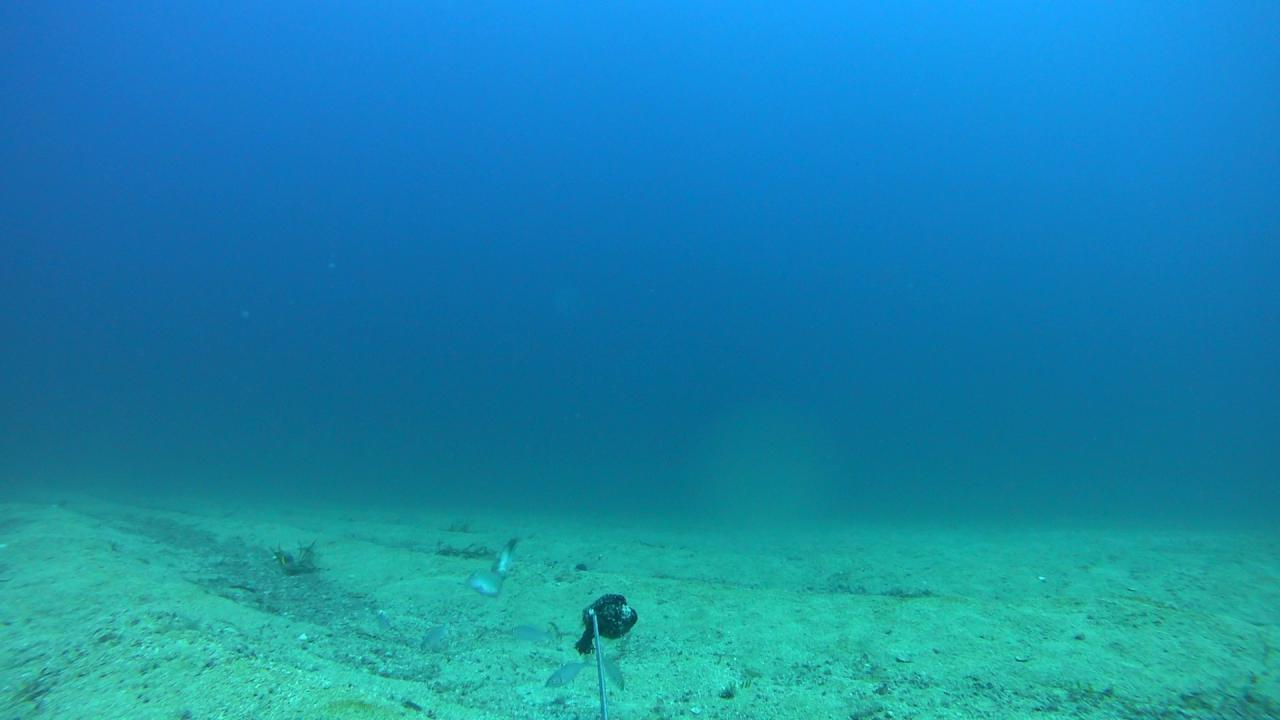pagellus: (539, 656, 590, 690), (602, 658, 625, 694), (505, 627, 545, 641)
